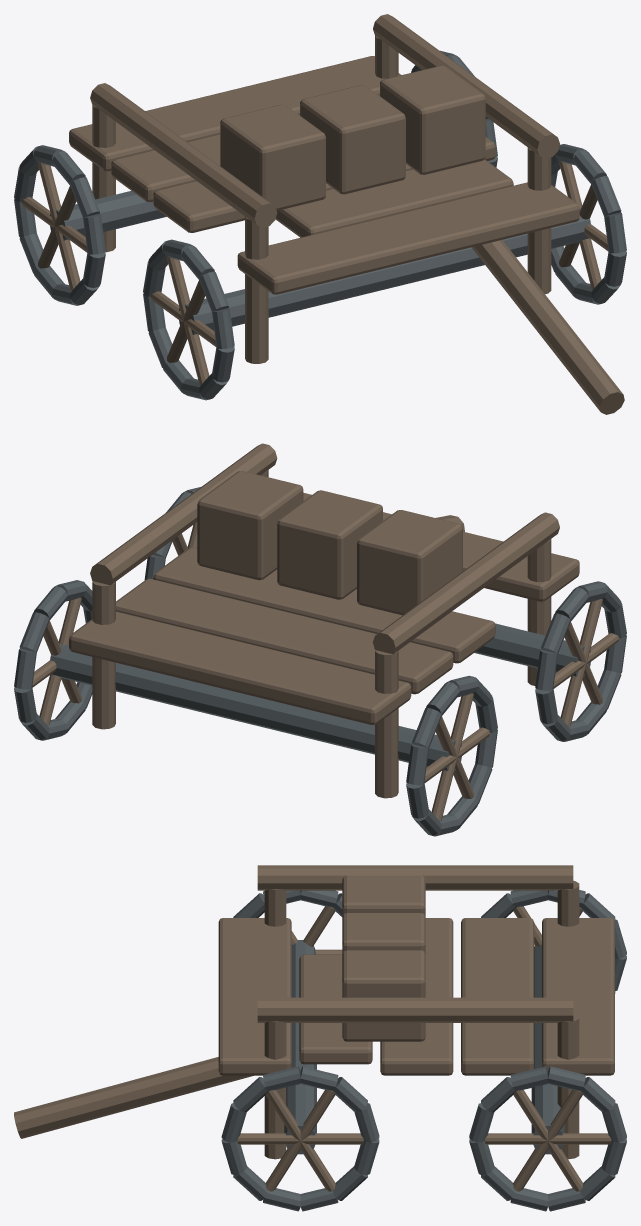
The model's file is broken_wagon.glb.
3 views of the same model, one above another, from view 1: azimuth 30°, elevation 25°; view 2: azimuth 150°, elevation 25°; view 3: azimuth 270°, elevation 25° (orthographic). The views are drawn at different scales.
Parts seen in each view (by area): view 1: Body.082; view 2: Body.082; view 3: Body.082.
Boxes of the visible parts, x1=… form: Body.082: x1=14, y1=14, x2=626, y2=414; Body.082: x1=14, y1=443, x2=626, y2=836; Body.082: x1=14, y1=865, x2=626, y2=1211.
Bounding box in the file's own units: 1.79 × 0.8622 × 2.43.
